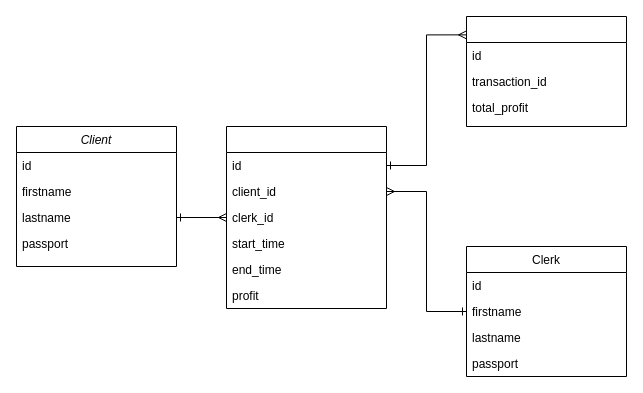
This 643x393 diagram has some shape labels left out. The box of each missing label's shape, as (x1, y1, x2, y2) in pixels:
BankTransaction: (226, 126, 386, 308)
Result: (466, 16, 626, 126)
